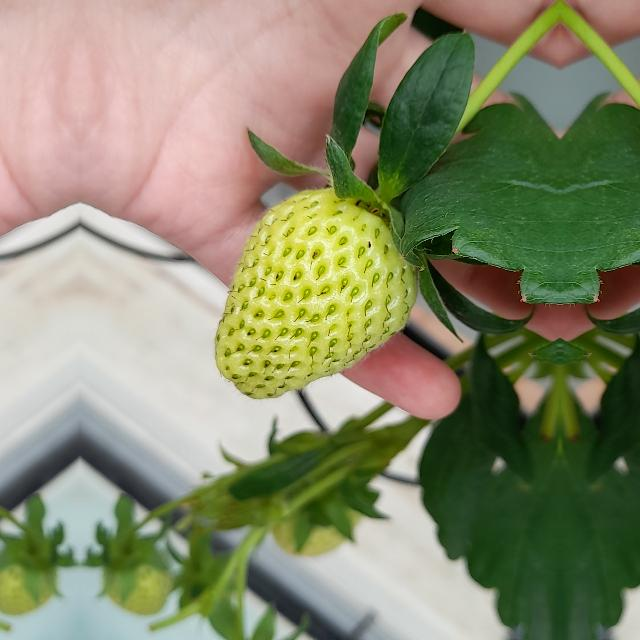Health_25: (214, 188, 418, 398)
